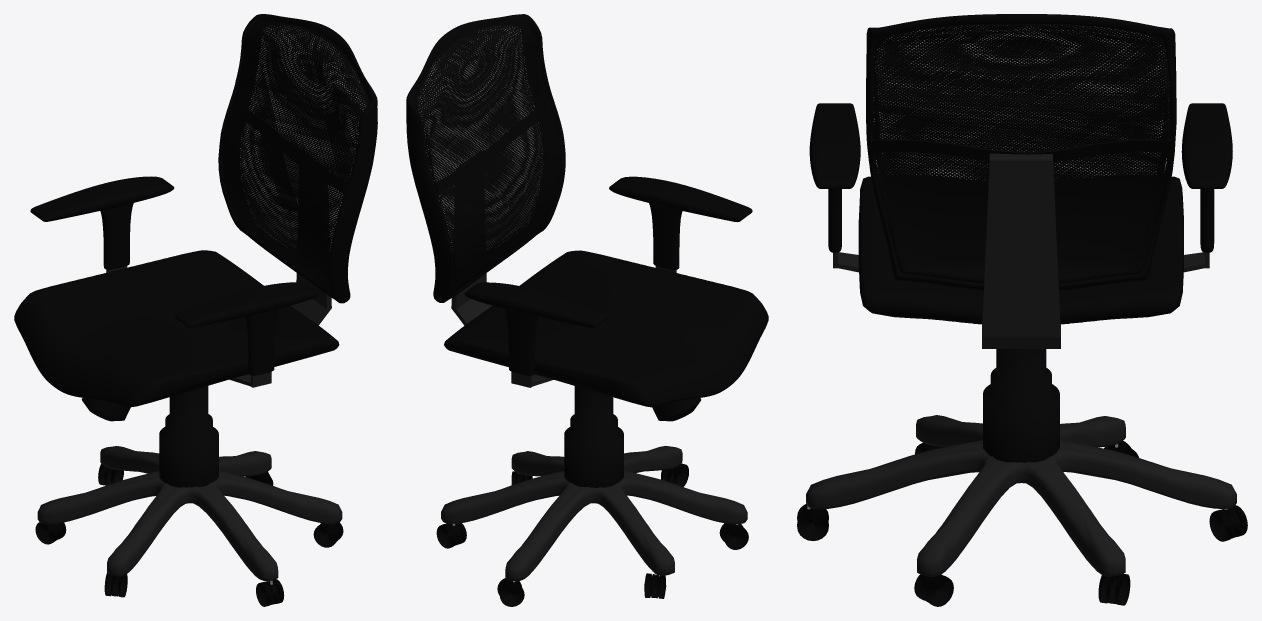
File: Chair_V4.glb
3 renders of one model, left to right at view 1: azimuth 30°, elevation 25°; view 2: azimuth 150°, elevation 25°; view 3: azimuth 270°, elevation 25°, orthographic. The views are drawn at different scales.
Visible parts, largest first — view 1: Plane.20072, Plane.20070, Circle.062, Plane.20071, Circle.060, Plane.20075, Plane.20073, Plane.20068, Circle.061, Circle.063, Circle.068, Circle.065 (+1 smaller); view 2: Plane.20072, Plane.20070, Circle.062, Plane.20071, Circle.060, Plane.20073, Plane.20075, Plane.20068, Circle.061, Circle.067, Circle.066, Circle.064 (+1 smaller); view 3: Plane.20070, Circle.062, Plane.20068, Plane.20072, Plane.20071, Circle.060, Plane.20075, Plane.20073, Circle.066, Circle.068, Circle.063, Circle.067.
Boxes of the visible parts, box(x1,y1,x2,y2) form: Plane.20072: box(14, 250, 339, 407); Plane.20070: box(221, 21, 369, 293); Circle.062: box(37, 446, 342, 581); Plane.20071: box(218, 14, 377, 303); Circle.060: box(159, 386, 218, 487); Plane.20075: box(30, 176, 174, 269); Plane.20073: box(175, 282, 318, 375); Plane.20068: box(106, 182, 331, 387); Circle.061: box(81, 398, 130, 421); Circle.063: box(256, 579, 284, 606); Circle.068: box(313, 522, 343, 547); Circle.065: box(35, 522, 66, 544); Plane.20072: box(444, 250, 768, 407); Plane.20070: box(413, 21, 561, 294); Circle.062: box(441, 446, 747, 581); Plane.20071: box(406, 14, 565, 302); Circle.060: box(564, 386, 623, 487); Plane.20073: box(609, 176, 752, 269); Plane.20075: box(464, 282, 607, 375); Plane.20068: box(451, 151, 676, 387); Circle.061: box(652, 398, 701, 421); Circle.067: box(436, 523, 466, 548); Circle.066: box(497, 578, 524, 606); Circle.064: box(719, 523, 748, 549); Plane.20070: box(873, 24, 1169, 283); Circle.062: box(806, 415, 1236, 577); Plane.20068: box(833, 153, 1209, 348); Plane.20072: box(858, 175, 1183, 324); Plane.20071: box(866, 14, 1176, 290); Circle.060: box(983, 349, 1059, 462); Plane.20075: box(1181, 103, 1232, 252); Plane.20073: box(809, 103, 860, 252); Circle.066: box(1209, 505, 1247, 541); Circle.068: box(914, 574, 953, 606); Circle.063: box(797, 504, 828, 540); Circle.067: box(1098, 574, 1130, 605).
Size of the model in its own units: 0.8749 by 1.41 by 0.9392.
6 materials, 3 textured.
